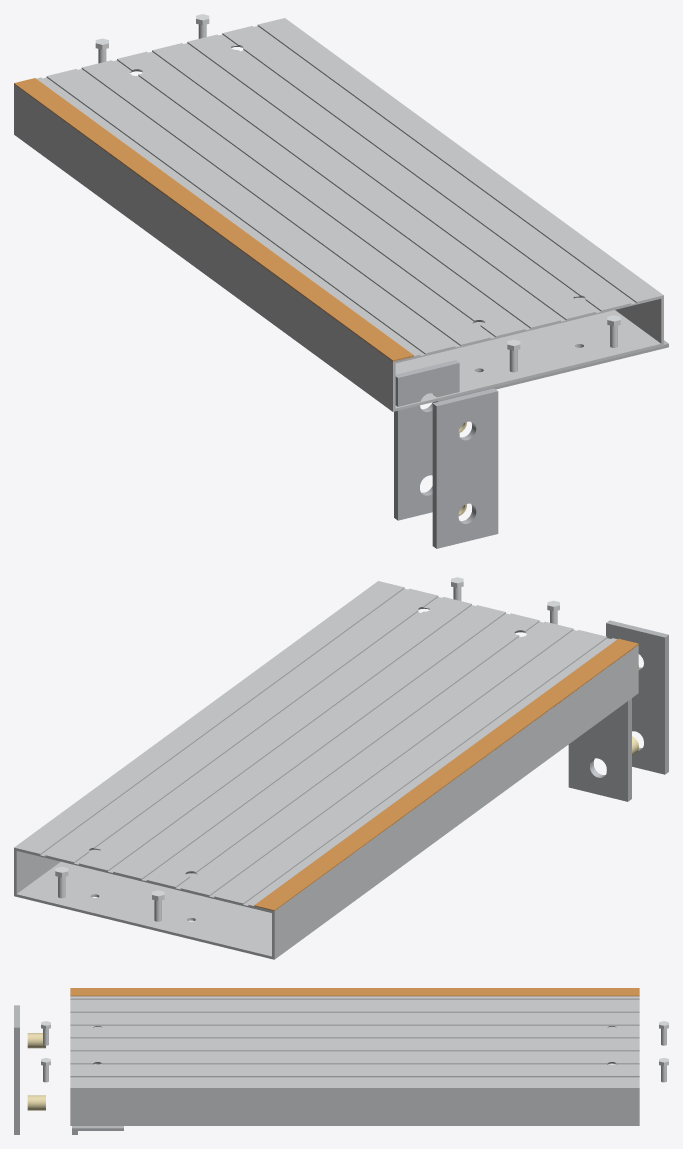
File: car_A0_4.glb
3 views of the same model, one above another, from view 1: azimuth 30°, elevation 25°; view 2: azimuth 150°, elevation 25°; view 3: azimuth 270°, elevation 25° (orthographic). The views are drawn at different scales.
Visible parts, largest first — view 1: =>[0:1:1:12], =>[0:1:1:6], =>[0:1:1:14], =>[0:1:1:5]; view 2: =>[0:1:1:12], =>[0:1:1:14], =>[0:1:1:6], =>[0:1:1:5]; view 3: =>[0:1:1:12], =>[0:1:1:14], =>[0:1:1:6], =>[0:1:1:10], =>[0:1:1:5], =>[0:1:1:8].
Boxes of the visible parts, x1,y1,x2,y2 form: =>[0:1:1:12]: (14,18,663,411); =>[0:1:1:6]: (432,388,498,548); =>[0:1:1:14]: (14,78,413,361); =>[0:1:1:5]: (394,340,668,520); =>[0:1:1:12]: (14,581,638,959); =>[0:1:1:14]: (254,638,638,910); =>[0:1:1:6]: (606,620,668,774); =>[0:1:1:5]: (568,698,631,801); =>[0:1:1:12]: (70,996,639,1125); =>[0:1:1:14]: (70,988,639,996); =>[0:1:1:6]: (14,1005,19,1134); =>[0:1:1:10]: (27,1095,45,1110); =>[0:1:1:5]: (72,1063,123,1134); =>[0:1:1:8]: (27,1033,45,1048).
Size of the model in its own units: 0.315 by 0.1808 by 0.8585.
